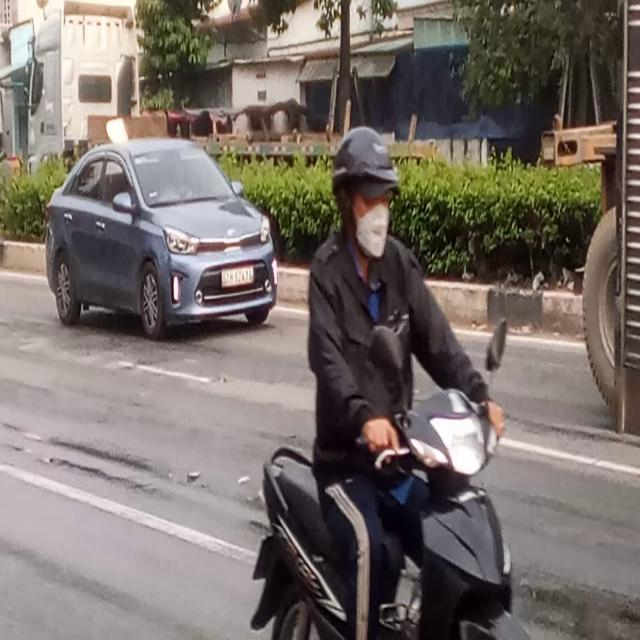bien_trang: (215, 266, 258, 290)
